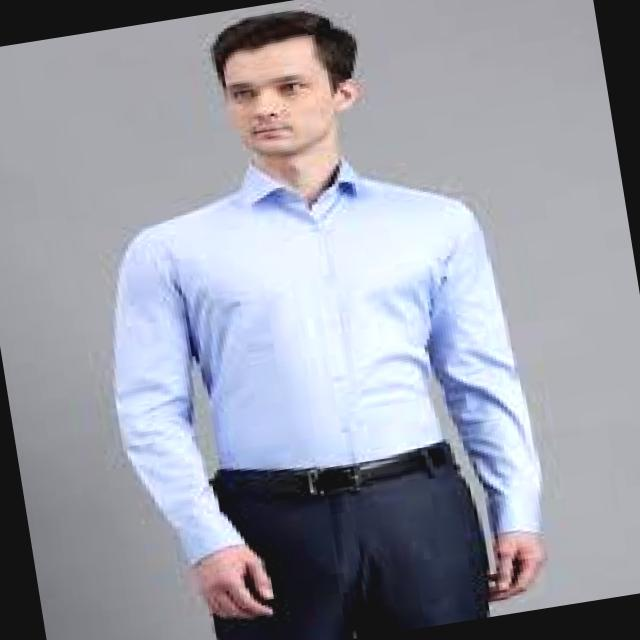face: (223, 36, 357, 159)
lower-wear: (211, 441, 489, 639)
top-wear: (113, 158, 541, 564)
